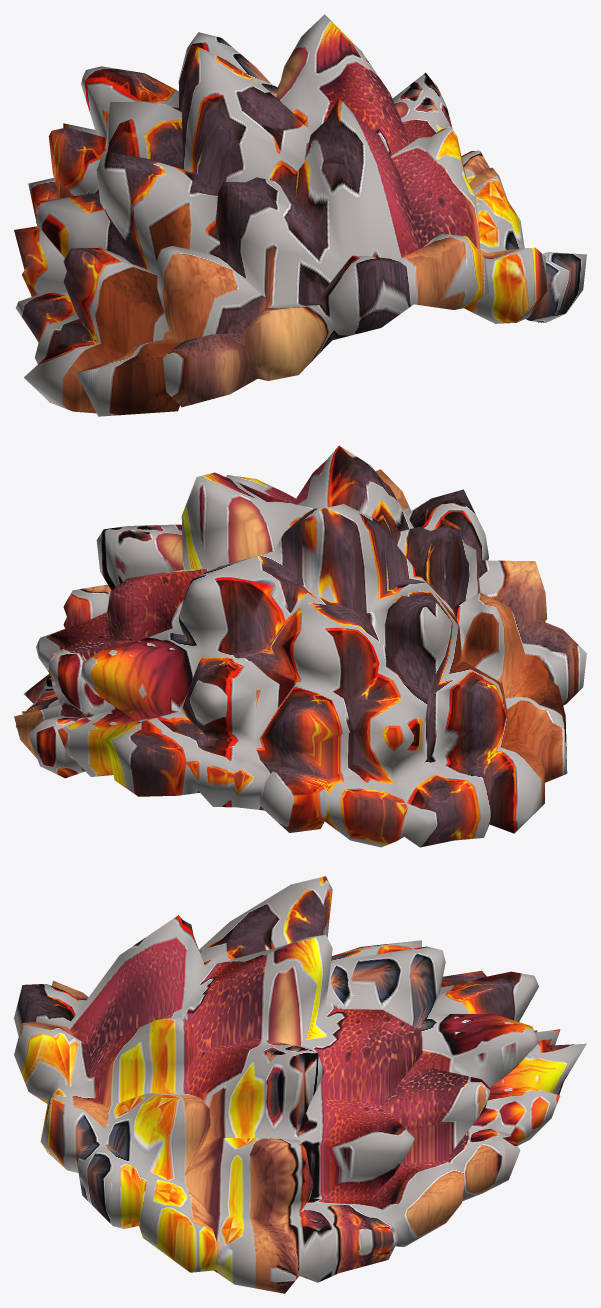
File: Mod_403_ke.FBX
The picture shows the model from 3 angles, top to bottom: view 1: azimuth 30°, elevation 25°; view 2: azimuth 150°, elevation 25°; view 3: azimuth 270°, elevation 25°; orthographic projection. The views are drawn at different scales.
Parts seen in each view (by area): view 1: Mod_403_ke; view 2: Mod_403_ke; view 3: Mod_403_ke.
Part boxes in pixels (x1,y1,x2,y2): Mod_403_ke: (14,14,586,416); Mod_403_ke: (14,445,586,847); Mod_403_ke: (14,876,586,1293).
Bounding box in the file's own units: 415 × 236 × 434.
